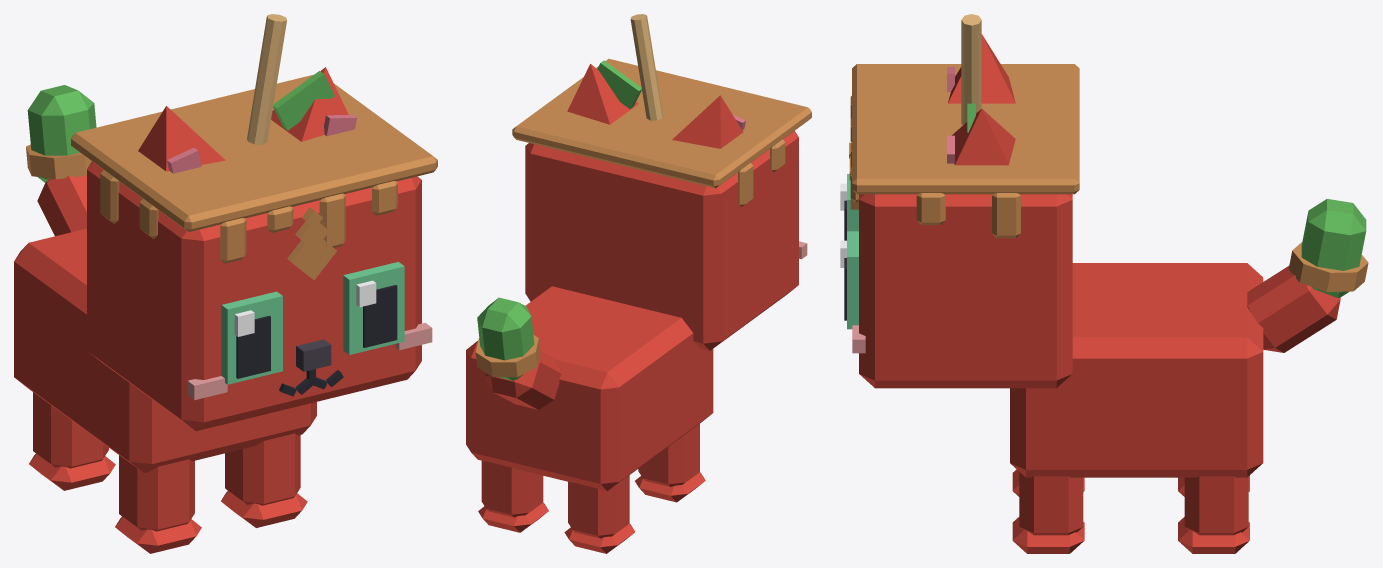
Rendered from CatCafe_Cat_CandyApple.glb.
3 renders of one model, left to right at view 1: azimuth 30°, elevation 25°; view 2: azimuth 150°, elevation 25°; view 3: azimuth 270°, elevation 25°, orthographic. The views are drawn at different scales.
Visible parts, largest first — view 1: CatCafe_Cat_CandyApple_Head, CatCafe_Cat_CandyApple_Prop, CatCafe_Cat_CandyApple_Body, CatCafe_Cat_CandyApple_LegF2, CatCafe_Cat_CandyApple_Tail, CatCafe_Cat_CandyApple_LegF1, CatCafe_Cat_CandyApple_Eye1, CatCafe_Cat_CandyApple_Eye2, CatCafe_Cat_CandyApple_LegB2, CatCafe_Cat_CandyApple_EarR, CatCafe_Cat_CandyApple_EarL, CatCafe_Cat_CandyApple_Tail_Caramel; view 2: CatCafe_Cat_CandyApple_Head, CatCafe_Cat_CandyApple_Body, CatCafe_Cat_CandyApple_Prop, CatCafe_Cat_CandyApple_Tail, CatCafe_Cat_CandyApple_LegB2, CatCafe_Cat_CandyApple_LegB1, CatCafe_Cat_CandyApple_LegF2, CatCafe_Cat_CandyApple_EarR, CatCafe_Cat_CandyApple_EarL, CatCafe_Cat_CandyApple_Tail_Caramel; view 3: CatCafe_Cat_CandyApple_Body, CatCafe_Cat_CandyApple_Head, CatCafe_Cat_CandyApple_Prop, CatCafe_Cat_CandyApple_Tail, CatCafe_Cat_CandyApple_LegF1, CatCafe_Cat_CandyApple_LegB1, CatCafe_Cat_CandyApple_EarL, CatCafe_Cat_CandyApple_EarR, CatCafe_Cat_CandyApple_Tail_Caramel, CatCafe_Cat_CandyApple_Eye1, CatCafe_Cat_CandyApple_Eye2.
Part boxes in pixels (x1=…): CatCafe_Cat_CandyApple_Head: x1=87, y1=161, x2=432, y2=431; CatCafe_Cat_CandyApple_Prop: x1=71, y1=14, x2=437, y2=263; CatCafe_Cat_CandyApple_Body: x1=14, y1=228, x2=316, y2=472; CatCafe_Cat_CandyApple_LegF2: x1=115, y1=455, x2=201, y2=553; CatCafe_Cat_CandyApple_Tail: x1=27, y1=85, x2=96, y2=236; CatCafe_Cat_CandyApple_LegF1: x1=221, y1=433, x2=307, y2=527; CatCafe_Cat_CandyApple_Eye1: x1=343, y1=262, x2=404, y2=354; CatCafe_Cat_CandyApple_Eye2: x1=221, y1=291, x2=282, y2=384; CatCafe_Cat_CandyApple_LegB2: x1=29, y1=392, x2=115, y2=490; CatCafe_Cat_CandyApple_EarR: x1=138, y1=106, x2=225, y2=173; CatCafe_Cat_CandyApple_EarL: x1=271, y1=67, x2=356, y2=141; CatCafe_Cat_CandyApple_Tail_Caramel: x1=26, y1=144, x2=91, y2=179; CatCafe_Cat_CandyApple_Head: x1=525, y1=130, x2=807, y2=350; CatCafe_Cat_CandyApple_Body: x1=466, y1=286, x2=713, y2=491; CatCafe_Cat_CandyApple_Prop: x1=512, y1=14, x2=811, y2=206; CatCafe_Cat_CandyApple_Tail: x1=477, y1=297, x2=561, y2=409; CatCafe_Cat_CandyApple_LegB2: x1=564, y1=475, x2=635, y2=553; CatCafe_Cat_CandyApple_LegB1: x1=478, y1=461, x2=548, y2=532; CatCafe_Cat_CandyApple_LegF2: x1=635, y1=423, x2=705, y2=502; CatCafe_Cat_CandyApple_EarR: x1=672, y1=95, x2=745, y2=148; CatCafe_Cat_CandyApple_EarL: x1=567, y1=64, x2=638, y2=124; CatCafe_Cat_CandyApple_Tail_Caramel: x1=475, y1=334, x2=540, y2=377; CatCafe_Cat_CandyApple_Body: x1=1010, y1=263, x2=1263, y2=477; CatCafe_Cat_CandyApple_Head: x1=849, y1=142, x2=1072, y2=388; CatCafe_Cat_CandyApple_Prop: x1=850, y1=14, x2=1079, y2=238; CatCafe_Cat_CandyApple_Tail: x1=1247, y1=199, x2=1366, y2=352; CatCafe_Cat_CandyApple_LegF1: x1=1012, y1=472, x2=1084, y2=553; CatCafe_Cat_CandyApple_LegB1: x1=1178, y1=476, x2=1249, y2=553; CatCafe_Cat_CandyApple_EarL: x1=947, y1=109, x2=1015, y2=165; CatCafe_Cat_CandyApple_EarR: x1=947, y1=34, x2=1015, y2=103; CatCafe_Cat_CandyApple_Tail_Caramel: x1=1288, y1=242, x2=1368, y2=291; CatCafe_Cat_CandyApple_Eye1: x1=840, y1=231, x2=858, y2=329; CatCafe_Cat_CandyApple_Eye2: x1=840, y1=174, x2=858, y2=240.
Size of the model in its own units: 1.06 by 2.13 by 1.98.
Materials: 1 (1 with a texture image).
